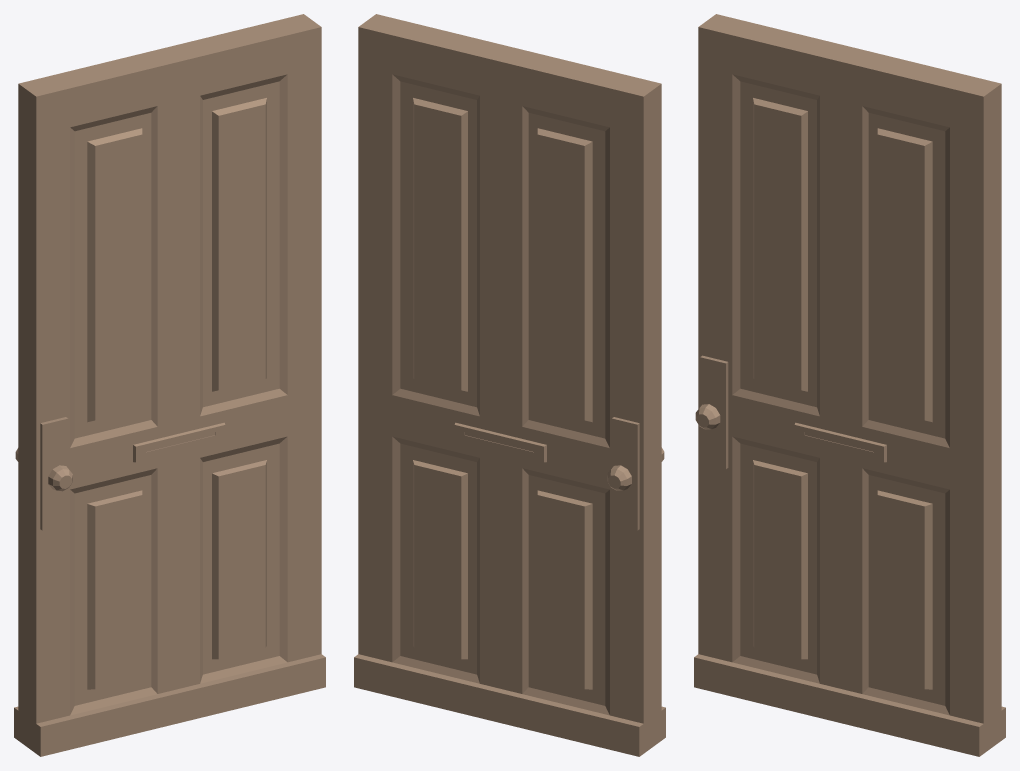
The model's file is env_block_door_1.glb.
3 views of the same model, side by side, from view 1: azimuth 30°, elevation 25°; view 2: azimuth 150°, elevation 25°; view 3: azimuth 330°, elevation 25° (orthographic).
Parts seen in each view (by area): view 1: geometry_0; view 2: geometry_0; view 3: geometry_0.
Boxes of the visible parts, box(x1,y1,x2,y2) form: geometry_0: box(14, 14, 325, 756); geometry_0: box(354, 14, 665, 756); geometry_0: box(694, 14, 1005, 756).
Size of the model in its own units: 1 by 2.2 by 0.2599.
